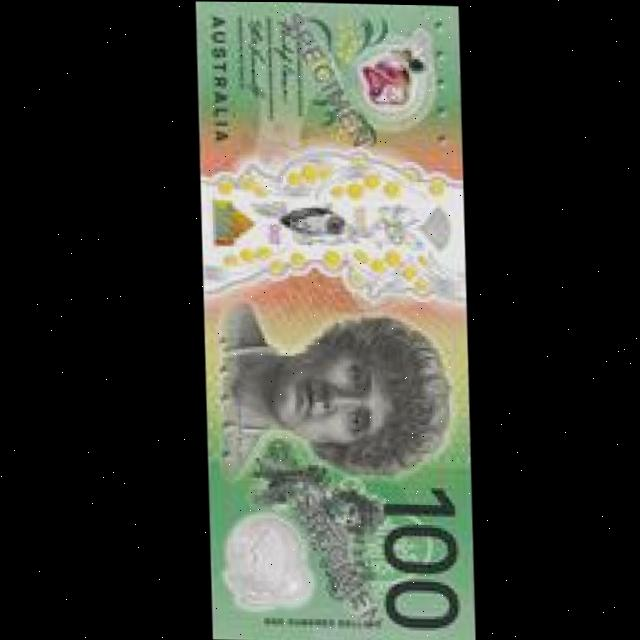banknote: (183, 1, 484, 640)
